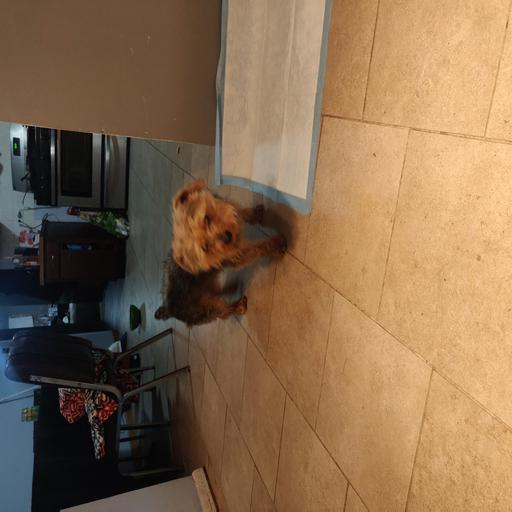dog: (152, 179, 261, 288)
